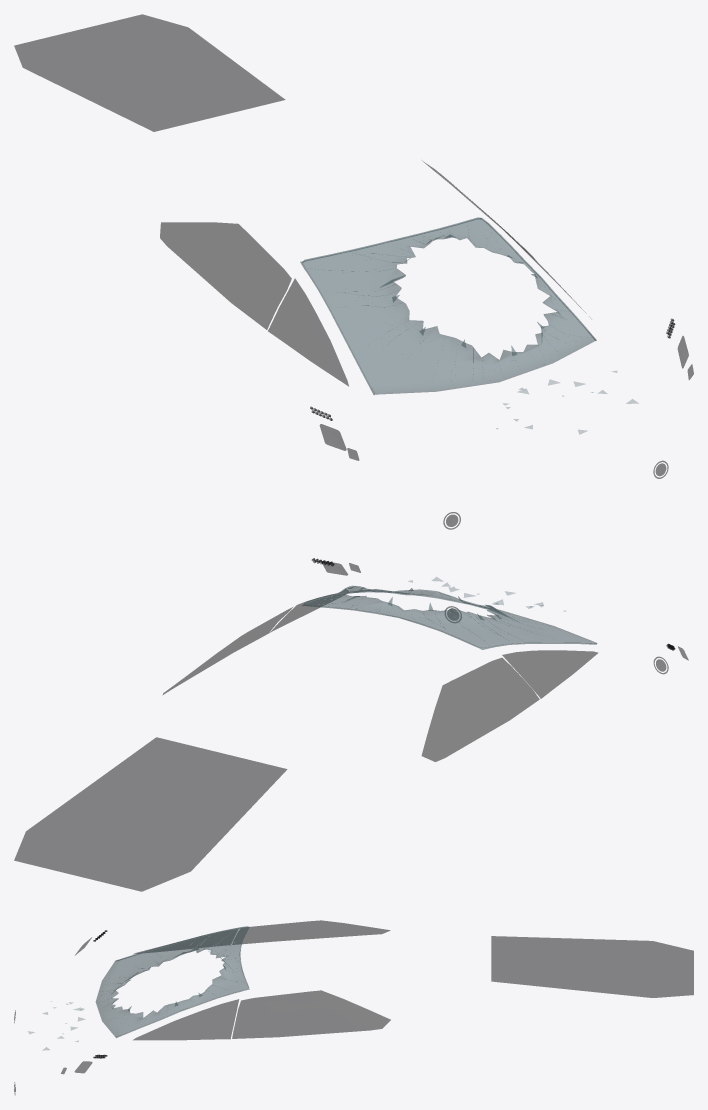
File: supercar_glass_damage.glb
3 renders of one model, top to bottom at view 1: azimuth 30°, elevation 25°; view 2: azimuth 150°, elevation 25°; view 3: azimuth 270°, elevation 25°, orthographic. The views are drawn at different scales.
Parts seen in each view (by area): view 1: Game_Glass_Remainder, Game_Damage_Windshield; view 2: Game_Glass_Remainder, Game_Damage_Windshield; view 3: Game_Glass_Remainder, Game_Damage_Windshield.
Part boxes in pixels (x1=…): Game_Glass_Remainder: x1=14, y1=14, x2=693, y2=529; Game_Damage_Windshield: x1=300, y1=217, x2=596, y2=394; Game_Glass_Remainder: x1=14, y1=558, x2=688, y2=891; Game_Damage_Windshield: x1=302, y1=585, x2=597, y2=649; Game_Glass_Remainder: x1=14, y1=920, x2=693, y2=1094; Game_Damage_Windshield: x1=95, y1=926, x2=249, y2=1037.
Size of the model in its own units: 1.7 by 0.6839 by 3.88.
